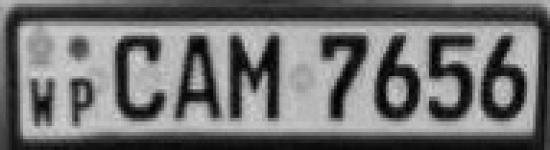5: (426, 29, 476, 129)
6: (476, 28, 532, 126), (374, 28, 423, 128)
7: (313, 26, 371, 128)
A: (170, 28, 226, 125)
C: (110, 28, 168, 122)
M: (228, 26, 290, 128)
P: (66, 71, 101, 132)
W: (21, 73, 64, 132)
